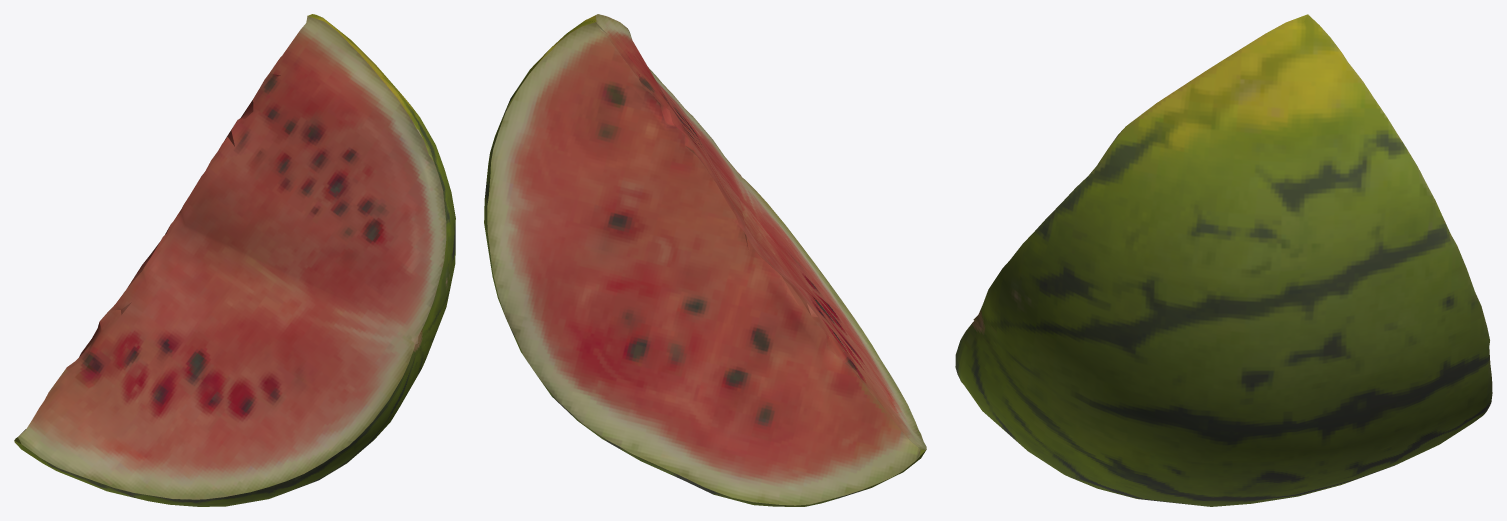
The model's file is ref_watermelonslice.glb.
3 renders of one model, left to right at view 1: azimuth 30°, elevation 25°; view 2: azimuth 150°, elevation 25°; view 3: azimuth 270°, elevation 25°, orthographic. The views are drawn at different scales.
Visible parts, largest first — view 1: ref_watermelonslice; view 2: ref_watermelonslice; view 3: ref_watermelonslice.
Boxes of the visible parts, bbox=[...] form: ref_watermelonslice: bbox=[14, 14, 455, 506]; ref_watermelonslice: bbox=[484, 14, 926, 506]; ref_watermelonslice: bbox=[955, 14, 1492, 506].
Size of the model in its own units: 0.9861 by 1 by 0.8706.
Materials: 1 (1 with a texture image).
